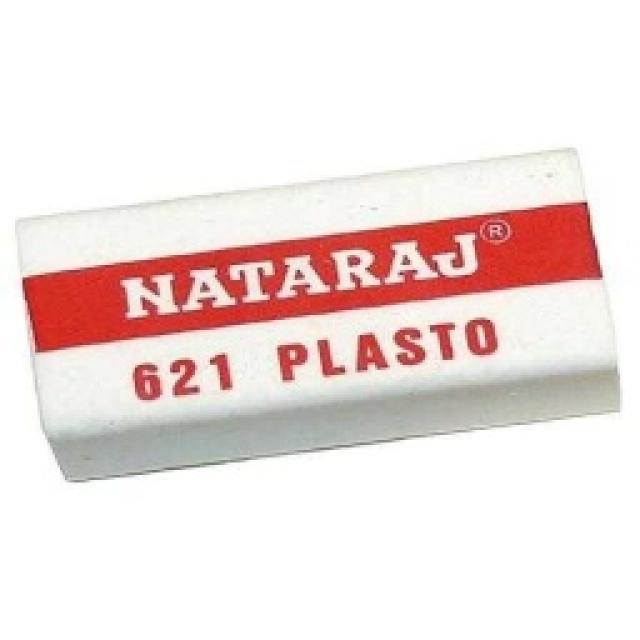Silgi: (15, 143, 623, 484)
